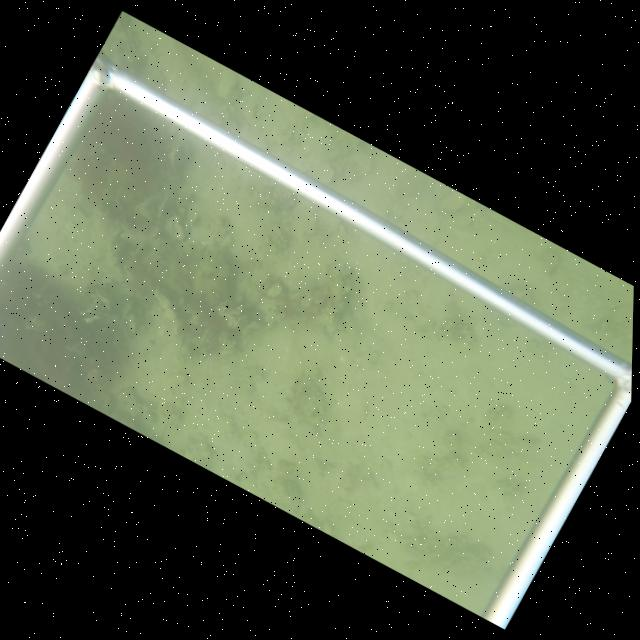Oyster-Closed: (121, 300, 133, 317)
Oyster-Indeterminate: (167, 141, 183, 173), (156, 193, 170, 221)
Oyster-Open: (251, 269, 271, 289), (78, 308, 102, 323), (207, 329, 219, 343)
